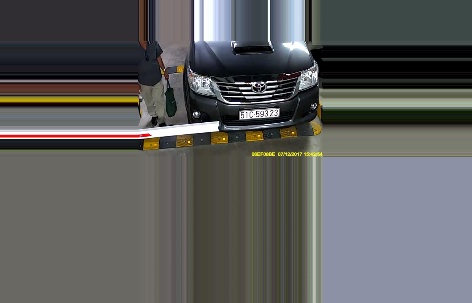plate: (239, 105, 282, 119)
